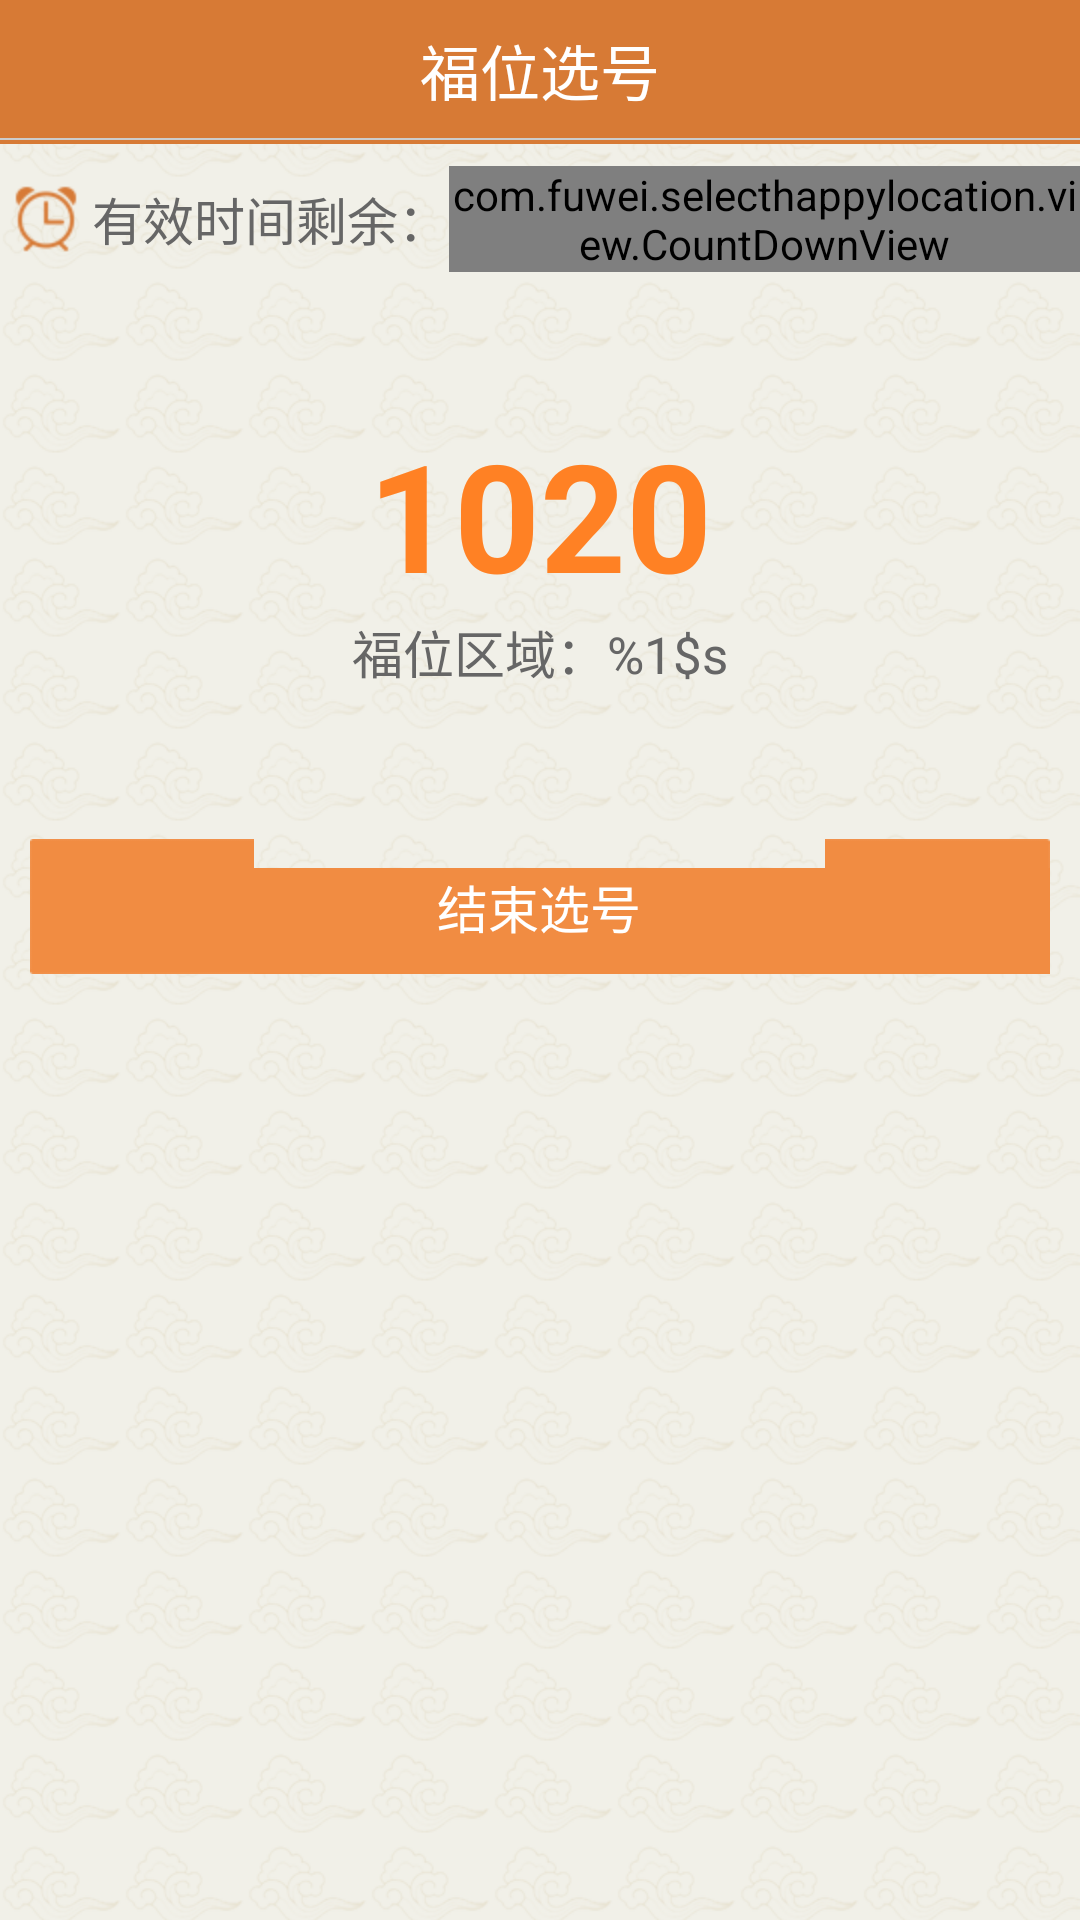

Where icons sit on this 1080w x 1920h app screen, as [x1=x1, y1=y1, x2=x2, y2=y2]:
shizhong: [x1=15, y1=186, x2=77, y2=252]
